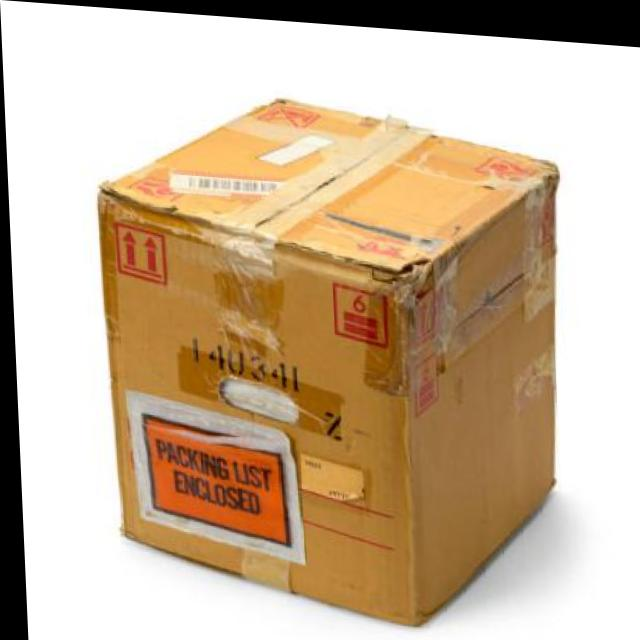box: (51, 43, 586, 640)
